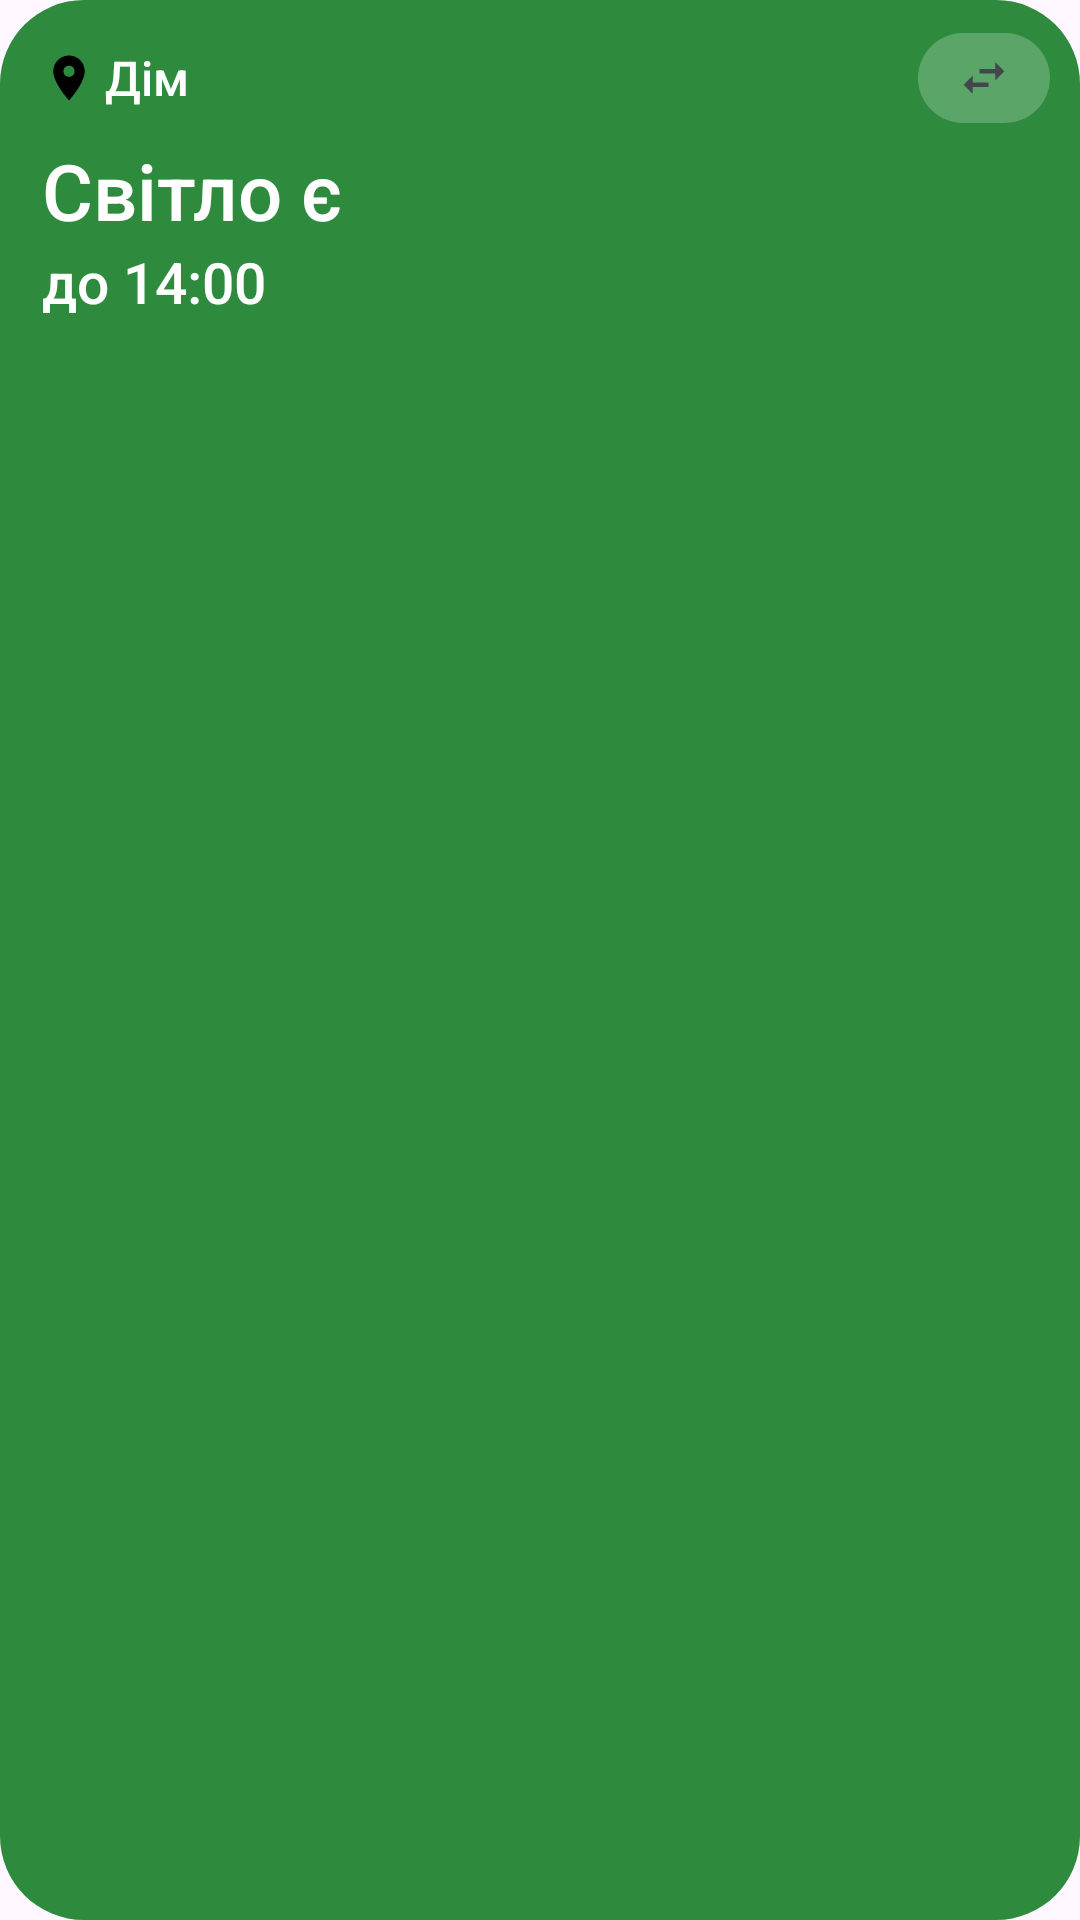

Screen size 1080 × 1920. Icon name, then its center in pixels as (x,y):
place: (69,77)
Інша адреса: (984,78)
